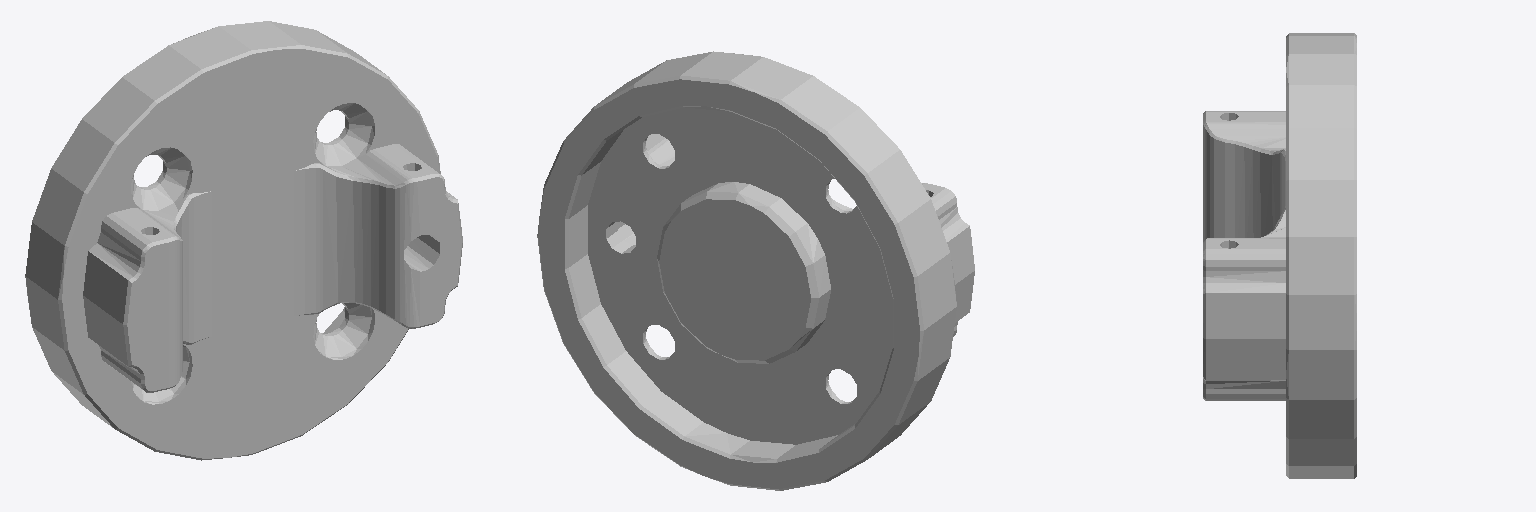
File: flange.obj
3 renders of one model, left to right at view 1: azimuth 30°, elevation 25°; view 2: azimuth 150°, elevation 25°; view 3: azimuth 270°, elevation 25°, orthographic.
Parts seen in each view (by area): view 1: ctm2f_07_10_aubo_i0001; view 2: ctm2f_07_10_aubo_i0001; view 3: ctm2f_07_10_aubo_i0001.
Boxes of the visible parts, <box> form: ctm2f_07_10_aubo_i0001: <box>25,21,462,460</box>; ctm2f_07_10_aubo_i0001: <box>537,51,974,490</box>; ctm2f_07_10_aubo_i0001: <box>1203,33,1356,478</box>.
Bounding box in the file's own units: 0.075 × 0.075 × 0.026.